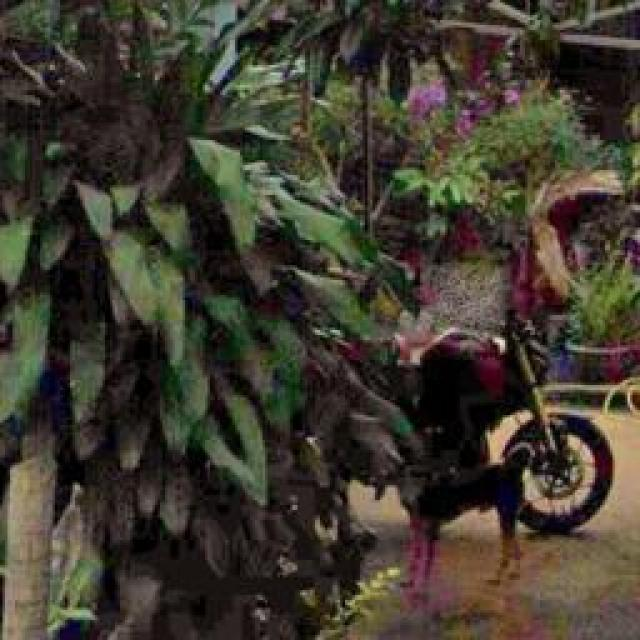Motor: (398, 310, 612, 535)
